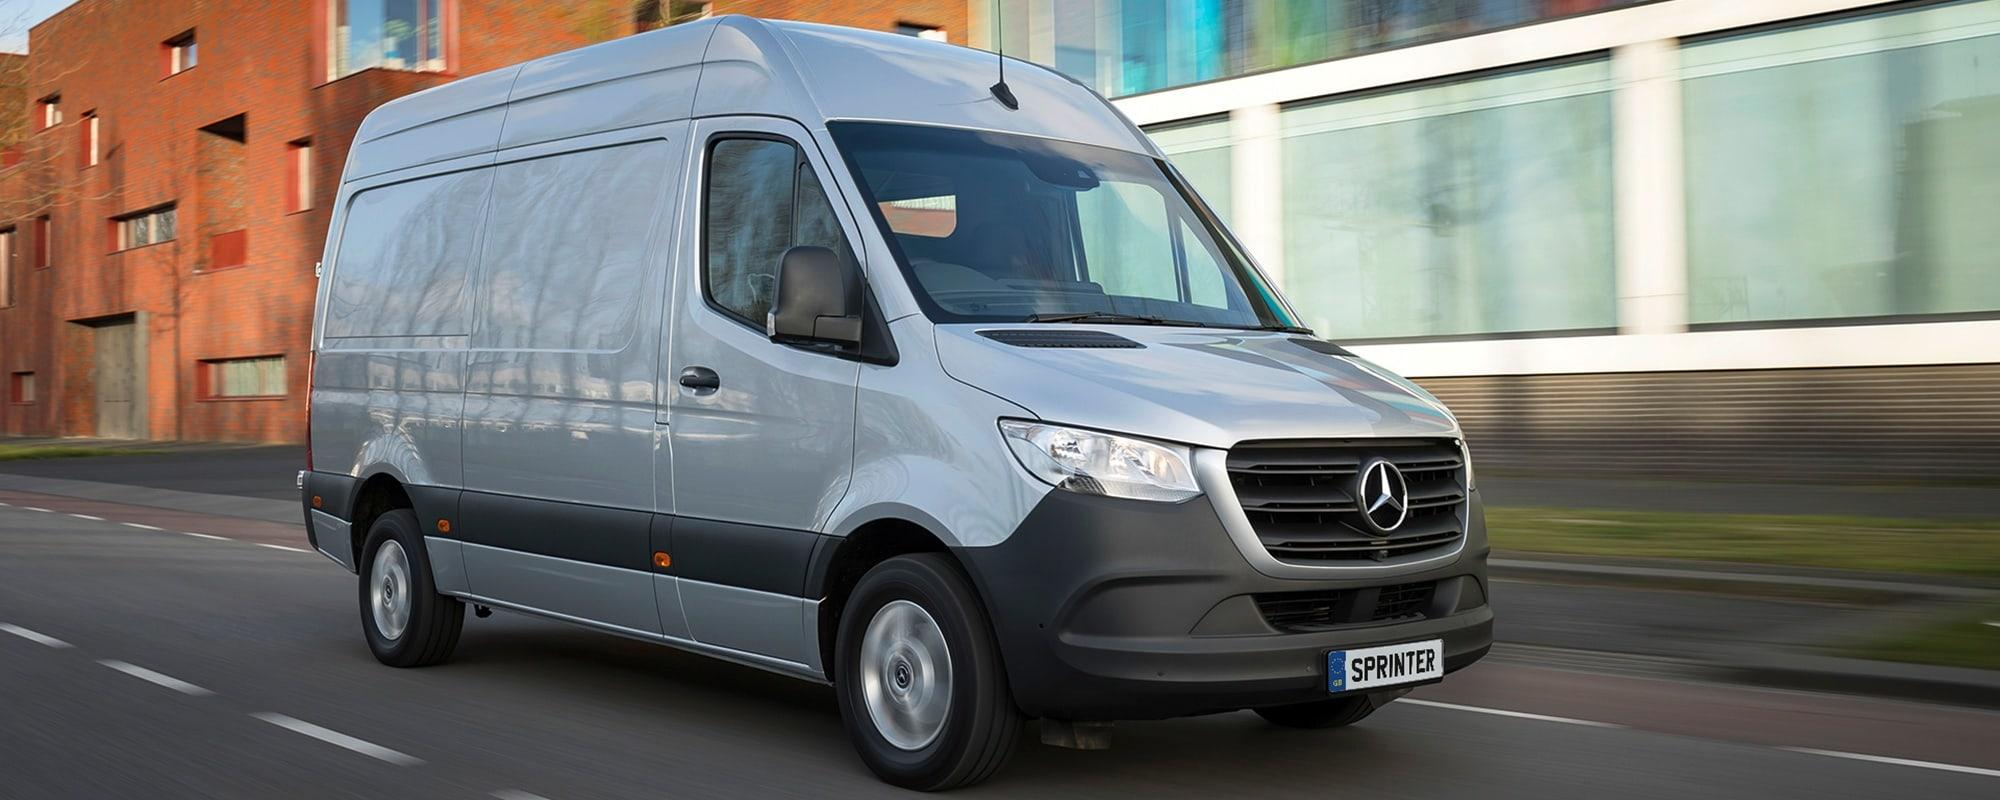van: (296, 13, 1496, 792)
